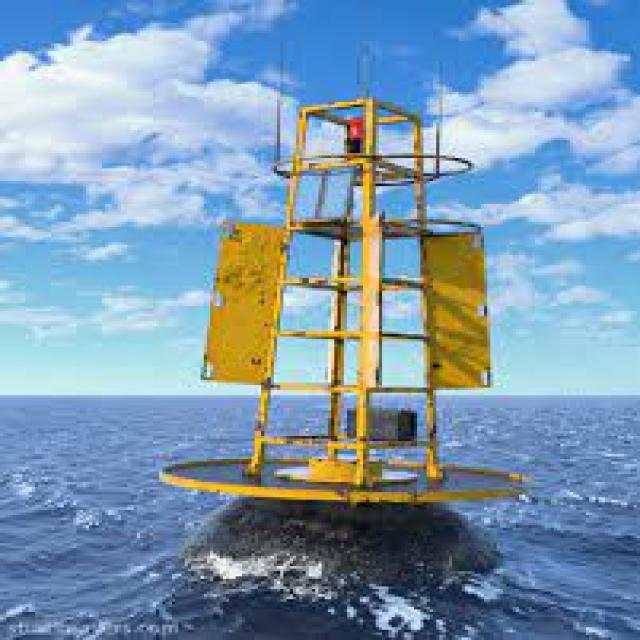buoy: (162, 69, 551, 521)
